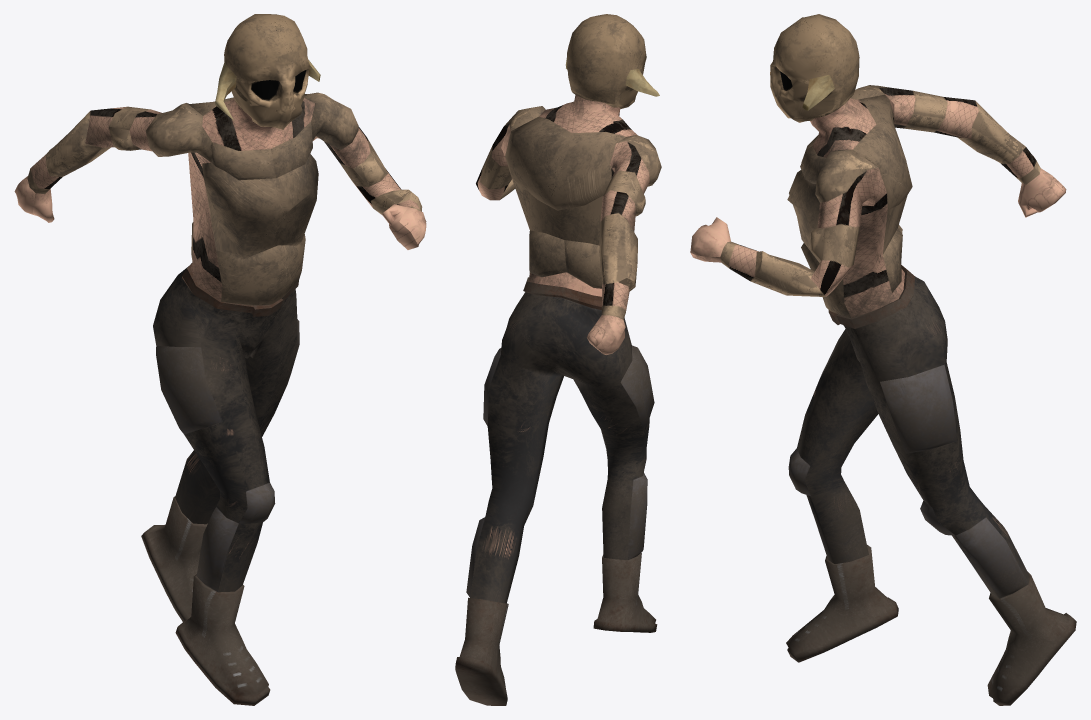
Rendered from Anim_correr_npc1.0030.obj.
The picture shows the model from 3 angles, left to right: view 1: azimuth 30°, elevation 25°; view 2: azimuth 150°, elevation 25°; view 3: azimuth 270°, elevation 25°; orthographic projection. The views are drawn at different scales.
Parts seen in each view (by area): view 1: Anim_correr_npc1; view 2: Anim_correr_npc1; view 3: Anim_correr_npc1.
Boxes of the visible parts, left/top/right/bottom form: Anim_correr_npc1: left=14, top=14, right=426, bottom=705; Anim_correr_npc1: left=455, top=14, right=661, bottom=705; Anim_correr_npc1: left=690, top=14, right=1076, bottom=705.
Bounding box in the file's own units: 4.04 × 9.79 × 5.12.
